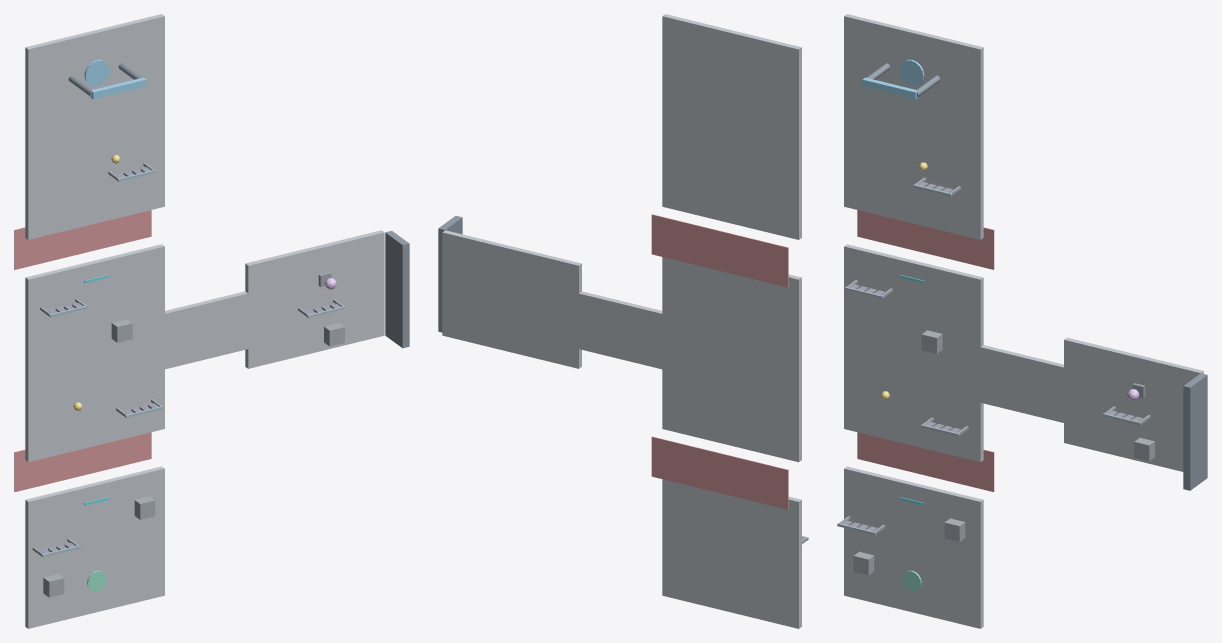
Rendered from level_02_giving_away_clothes_at_go.glb.
3 views of the same model, side by side, from view 1: azimuth 30°, elevation 25°; view 2: azimuth 150°, elevation 25°; view 3: azimuth 330°, elevation 25° (orthographic).
Parts seen in each view (by area): view 1: EXIT_HALL_0003, SORTING_0002, DROP_OFF_0001, DEAD_END_DONATION_ROOM_0007, OPTIONAL_SIDE_CORRIDOR_SEG1_0006, VOID_DEBUG_NONCOLLIDING_0005, VOID_DEBUG_NONCOLLIDING_0004, DEAD_END_WALL_0008, EXIT_ARCH_HEADER_0058; view 2: EXIT_HALL_0003, SORTING_0002, DROP_OFF_0001, DEAD_END_DONATION_ROOM_0007, OPTIONAL_SIDE_CORRIDOR_SEG1_0006, VOID_DEBUG_NONCOLLIDING_0004, VOID_DEBUG_NONCOLLIDING_0005, DEAD_END_WALL_0008; view 3: EXIT_HALL_0003, SORTING_0002, DROP_OFF_0001, DEAD_END_DONATION_ROOM_0007, OPTIONAL_SIDE_CORRIDOR_SEG1_0006, VOID_DEBUG_NONCOLLIDING_0004, VOID_DEBUG_NONCOLLIDING_0005, DEAD_END_WALL_0008, EXIT_ARCH_HEADER_0058, LEVEL_COMPLETION_TRIGGER_PLACEHOLDER_0055.
Part boxes in pixels (x1,y1,x2,y2): EXIT_HALL_0003: (25,14,164,239); SORTING_0002: (25,244,164,462); DROP_OFF_0001: (25,466,164,628); DEAD_END_DONATION_ROOM_0007: (245,230,384,368); OPTIONAL_SIDE_CORRIDOR_SEG1_0006: (144,289,268,374); VOID_DEBUG_NONCOLLIDING_0005: (14,210,151,269); VOID_DEBUG_NONCOLLIDING_0004: (14,432,151,491); DEAD_END_WALL_0008: (385,230,409,348); EXIT_ARCH_HEADER_0058: (90,77,146,99); EXIT_HALL_0003: (662,14,801,239); SORTING_0002: (662,257,801,462); DROP_OFF_0001: (662,479,801,628); DEAD_END_DONATION_ROOM_0007: (442,230,581,368); OPTIONAL_SIDE_CORRIDOR_SEG1_0006: (558,291,682,374); VOID_DEBUG_NONCOLLIDING_0004: (651,436,788,509); VOID_DEBUG_NONCOLLIDING_0005: (651,214,788,287); DEAD_END_WALL_0008: (438,215,462,332); EXIT_HALL_0003: (844,14,983,239); SORTING_0002: (844,244,983,462); DROP_OFF_0001: (844,466,983,628); DEAD_END_DONATION_ROOM_0007: (1064,337,1203,471); OPTIONAL_SIDE_CORRIDOR_SEG1_0006: (960,343,1084,427); VOID_DEBUG_NONCOLLIDING_0004: (857,432,994,491); VOID_DEBUG_NONCOLLIDING_0005: (857,210,994,269); DEAD_END_WALL_0008: (1183,373,1207,490); EXIT_ARCH_HEADER_0058: (862,77,918,99); LEVEL_COMPLETION_TRIGGER_PLACEHOLDER_0055: (899,59,924,86).
Size of the model in its own units: 47.95 by 73 by 8.48.
